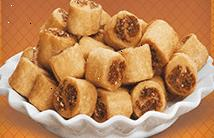bhakarwadi: (8, 1, 207, 115)
